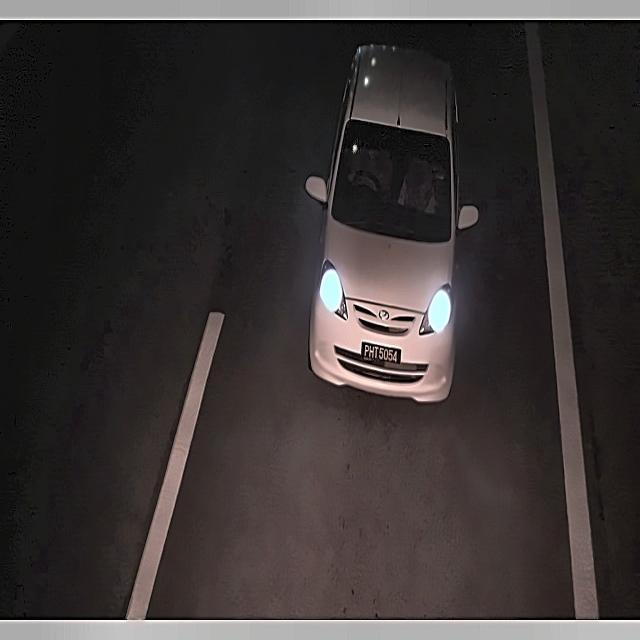car: (356, 338, 407, 369)
